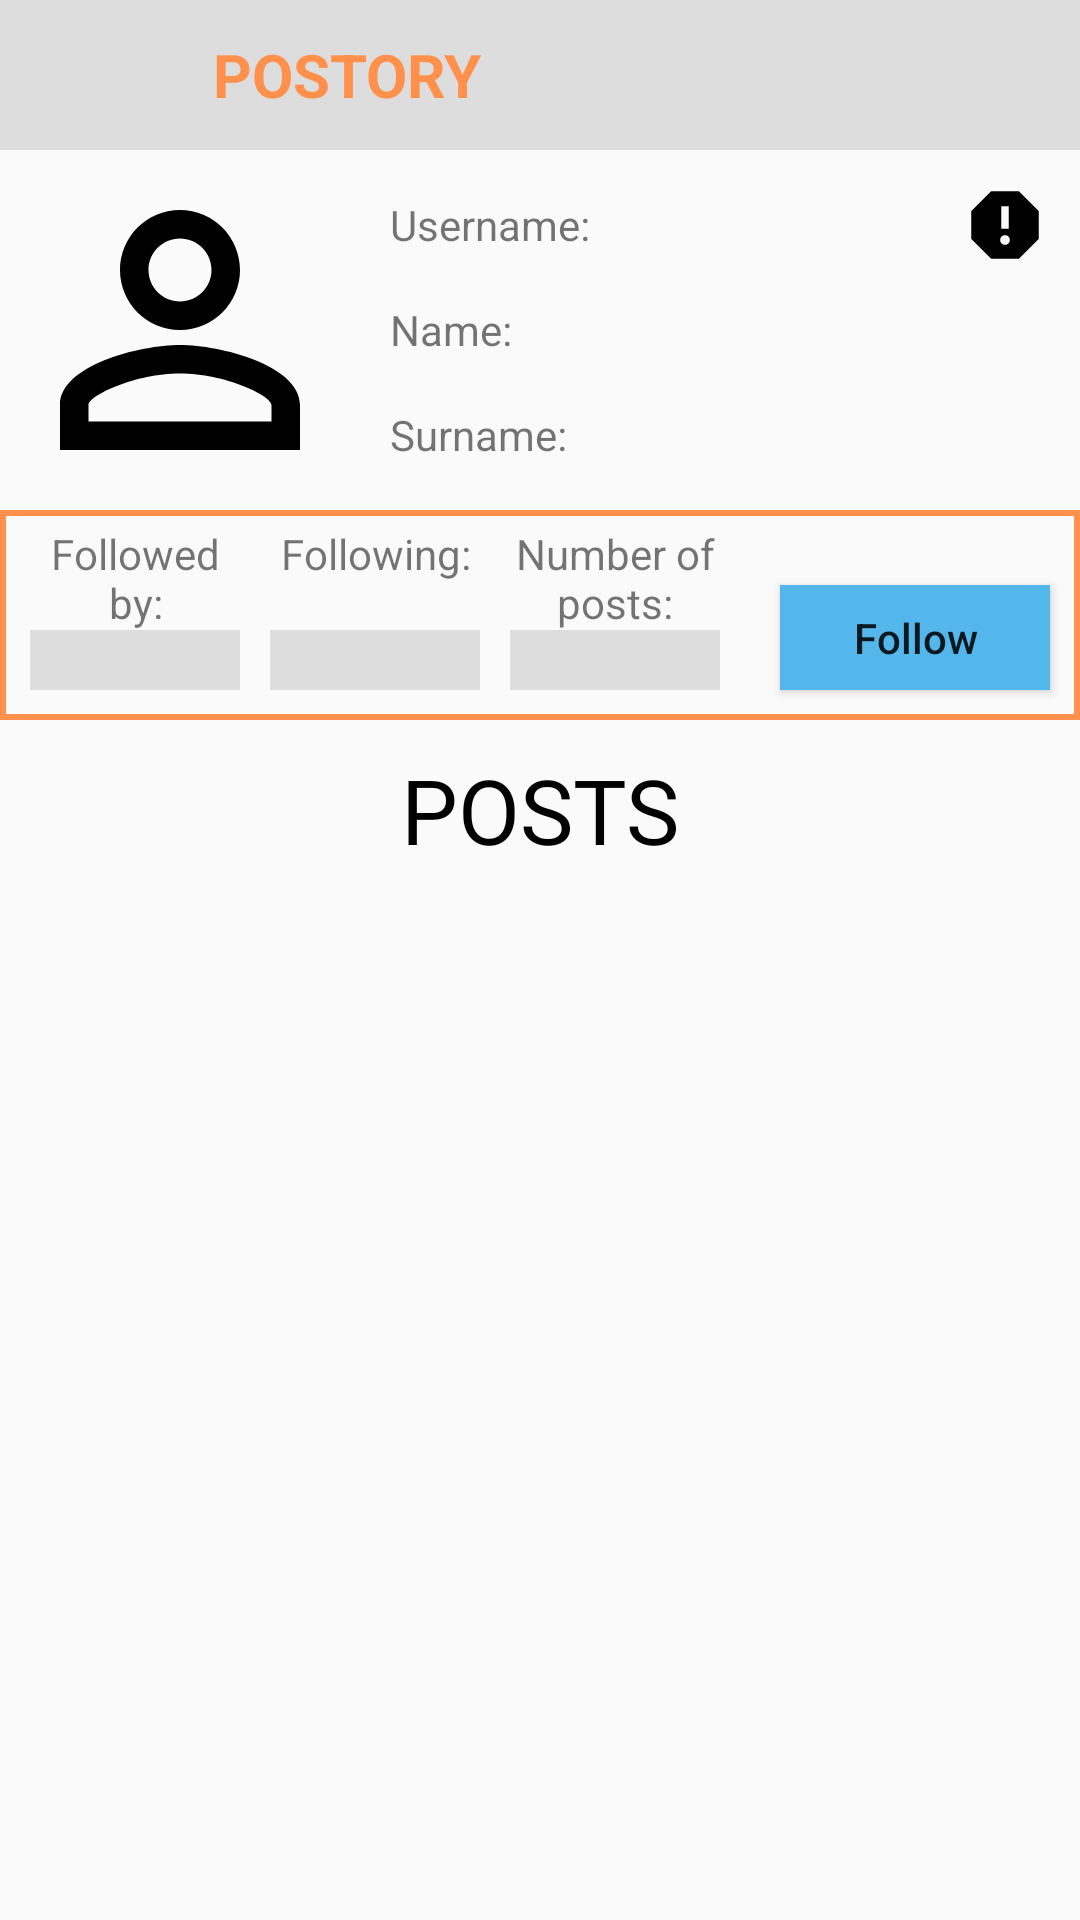

Screen size 1080*1920. Icon name, then its center in pixels as (x,y):
person: (180,330)
report: (1005,225)
